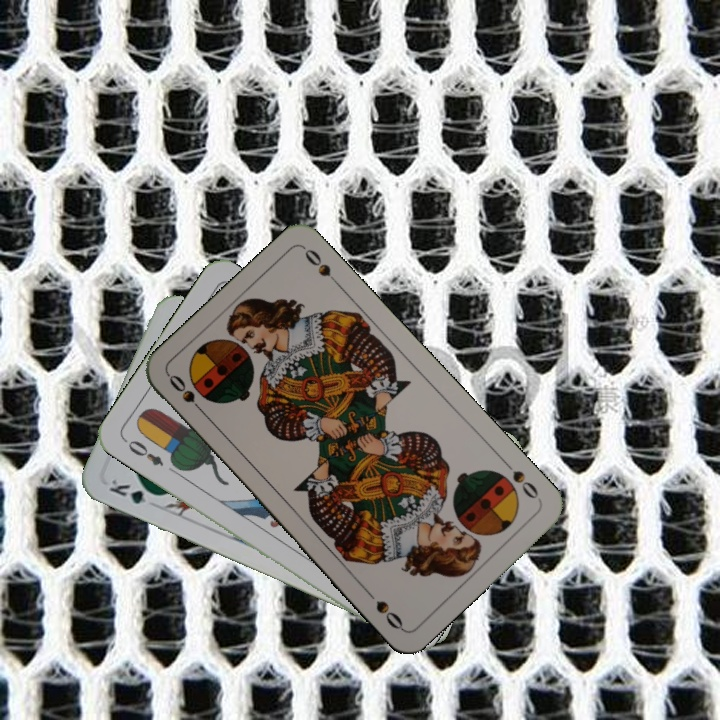EO: (124, 436, 166, 469)
GK: (105, 475, 163, 507)
SO: (164, 370, 209, 419), (499, 456, 544, 504)
